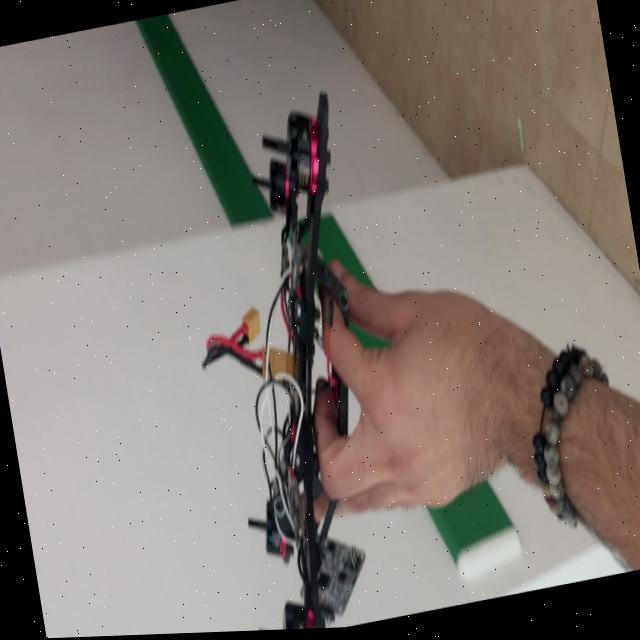drone: (159, 88, 423, 635)
